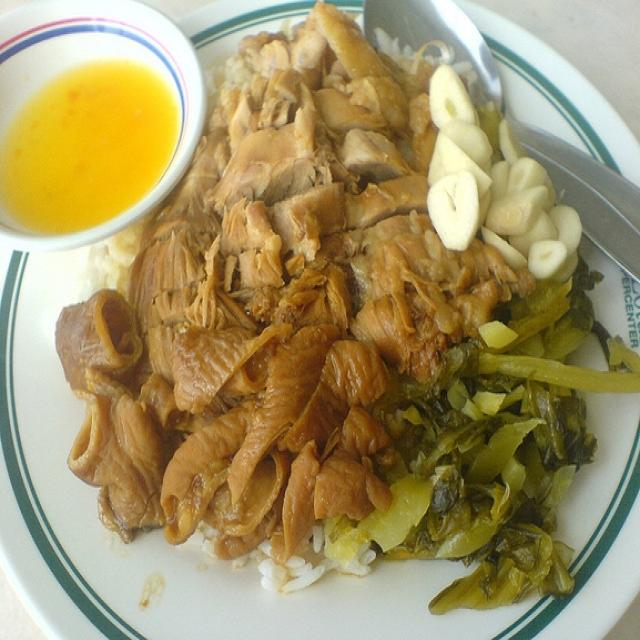猪肉菜式: (34, 24, 624, 615)
